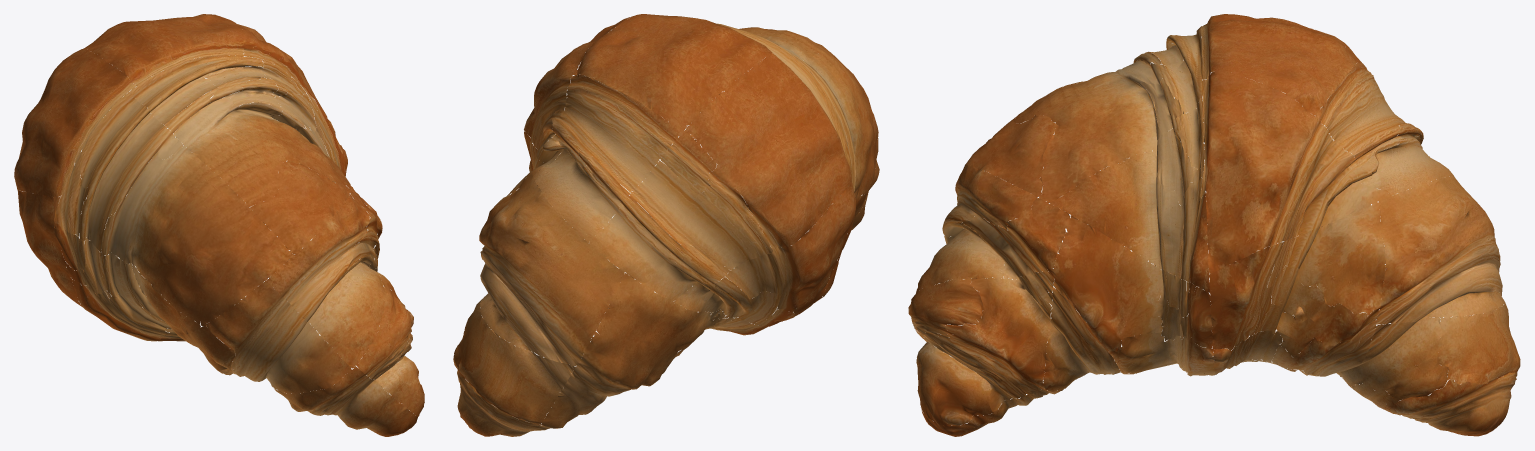
The model's file is croissant.glb.
3 views of the same model, side by side, from view 1: azimuth 30°, elevation 25°; view 2: azimuth 150°, elevation 25°; view 3: azimuth 270°, elevation 25° (orthographic). The views are drawn at different scales.
Visible parts, largest first — view 1: tripo_node_b324ca8e-4b84-46f6-b8ad-0716f25f584c; view 2: tripo_node_b324ca8e-4b84-46f6-b8ad-0716f25f584c; view 3: tripo_node_b324ca8e-4b84-46f6-b8ad-0716f25f584c.
Boxes of the visible parts, x1,y1,x2,y2 form: tripo_node_b324ca8e-4b84-46f6-b8ad-0716f25f584c: [14, 14, 424, 436]; tripo_node_b324ca8e-4b84-46f6-b8ad-0716f25f584c: [453, 14, 879, 436]; tripo_node_b324ca8e-4b84-46f6-b8ad-0716f25f584c: [908, 14, 1520, 436].
Bounding box in the file's own units: 0.6047 × 0.634 × 0.9809.
1 material, 1 textured.
